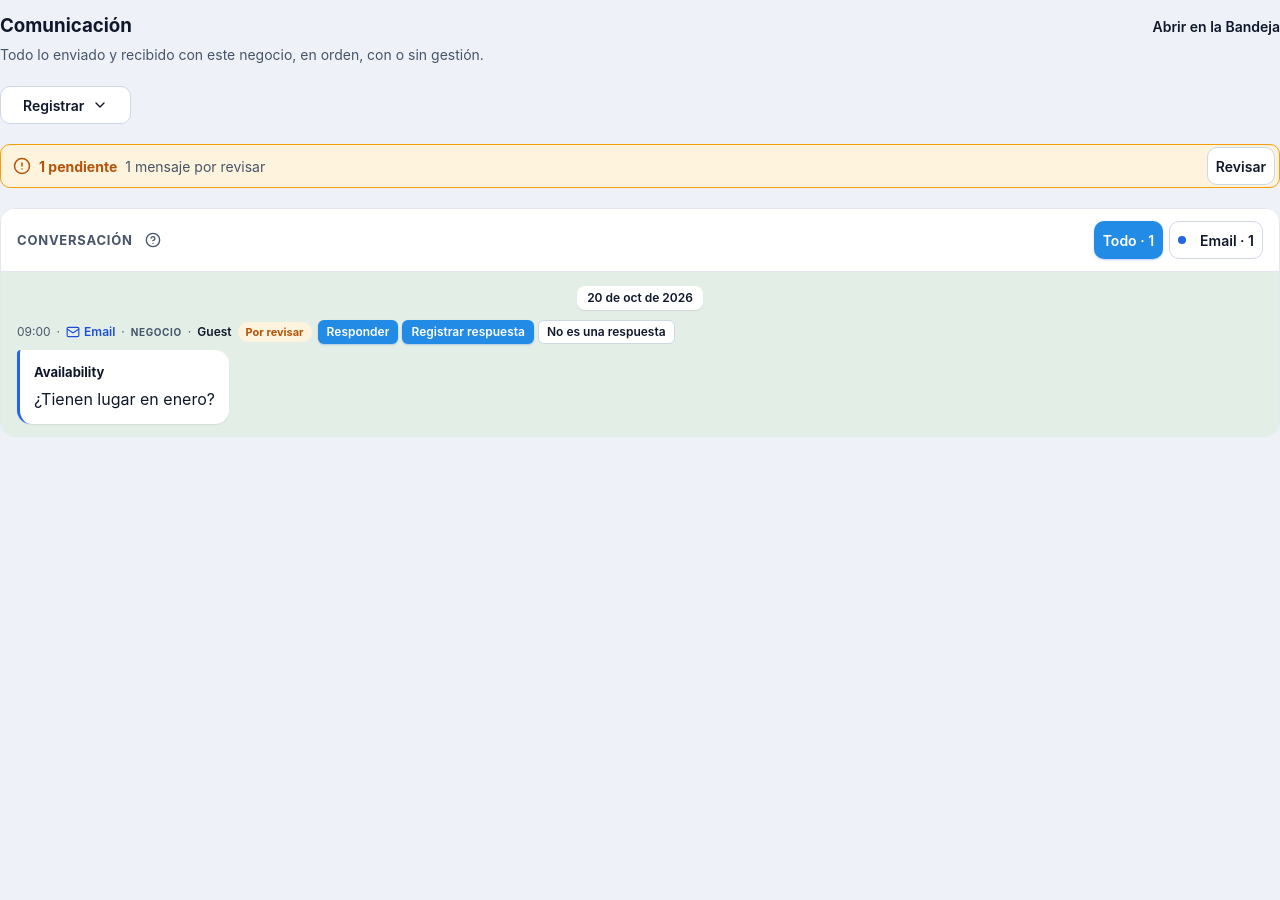
inbound actions in Comunicación › shows «Responder» only when a reply is available, with the restricted notice in the reply
expect the button "Registrar respuesta" is shown: met, box [402,320,534,344]
Click the button "Responder": click(358, 332) [318,320,398,344]
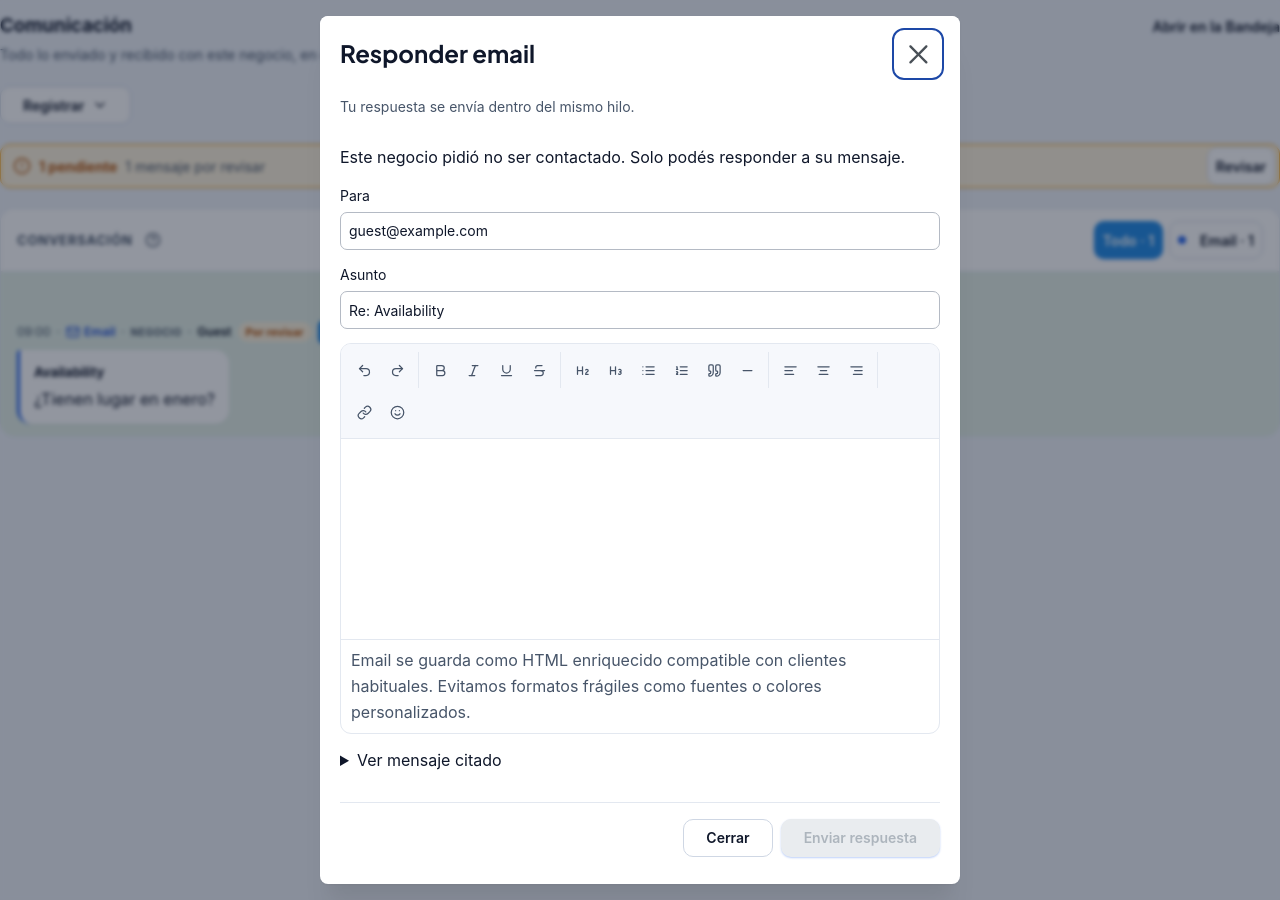
expect the text "Este negocio pidió no ser contactado. Solo podés responder a su mensaje." is shown: met, box [340,145,940,171]
